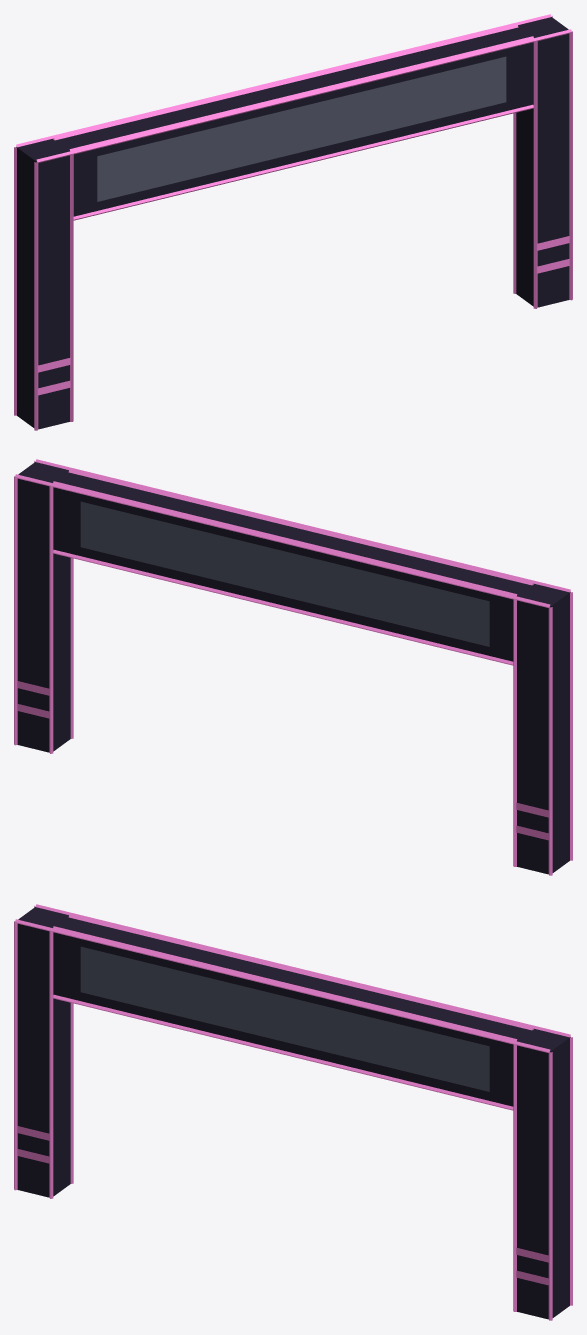
File: gate.glb
The picture shows the model from 3 angles, top to bottom: view 1: azimuth 30°, elevation 25°; view 2: azimuth 150°, elevation 25°; view 3: azimuth 330°, elevation 25°; orthographic projection.
Parts seen in each view (by area): view 1: root; view 2: root; view 3: root.
Boxes of the visible parts, x1,y1,x2,y2 form: root: [14, 14, 572, 430]; root: [14, 459, 572, 875]; root: [14, 904, 572, 1320].
Bounding box in the file's own units: 19.74 × 9.47 × 1.44.
